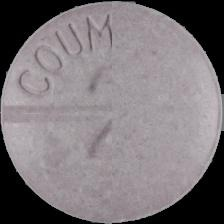55154-7702: (0, 0, 224, 224)
